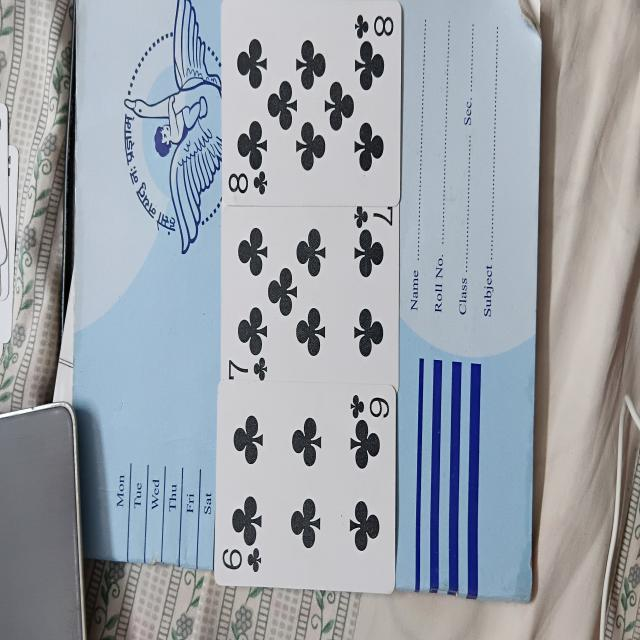6C: (218, 381, 395, 588)
7C: (221, 206, 399, 386)
8C: (220, 3, 402, 206)
